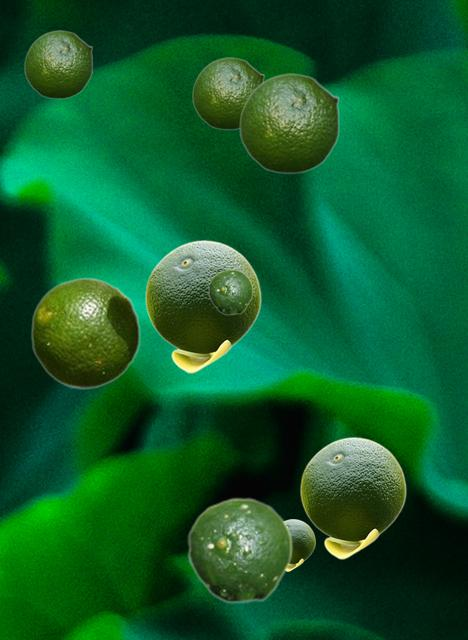calamansi: (145, 240, 260, 372), (300, 437, 405, 558), (30, 277, 140, 388), (187, 497, 292, 603), (239, 73, 339, 173), (192, 57, 264, 129), (24, 30, 92, 98), (208, 269, 252, 314), (286, 519, 314, 570)
